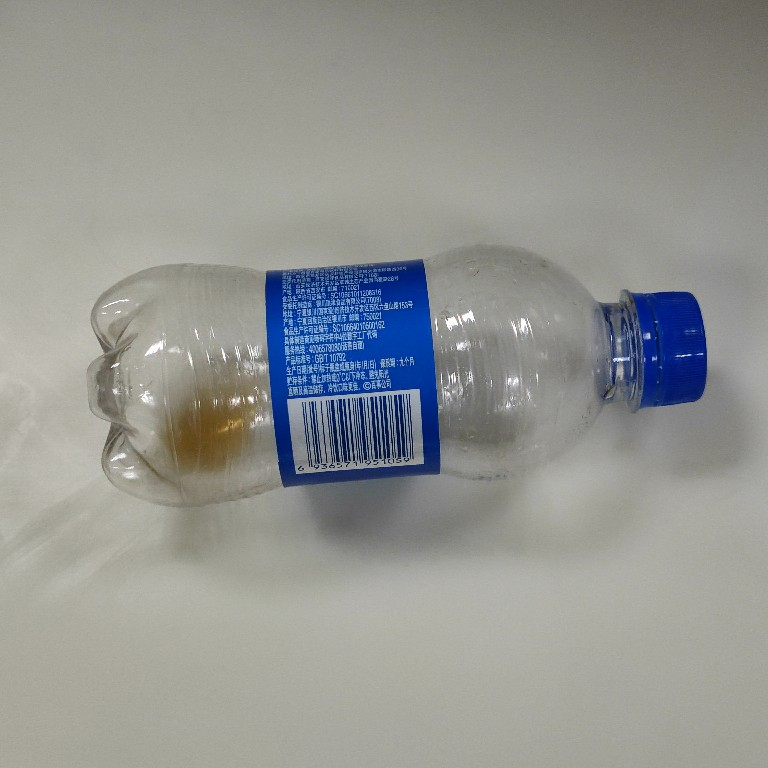bottle: (81, 237, 711, 510)
